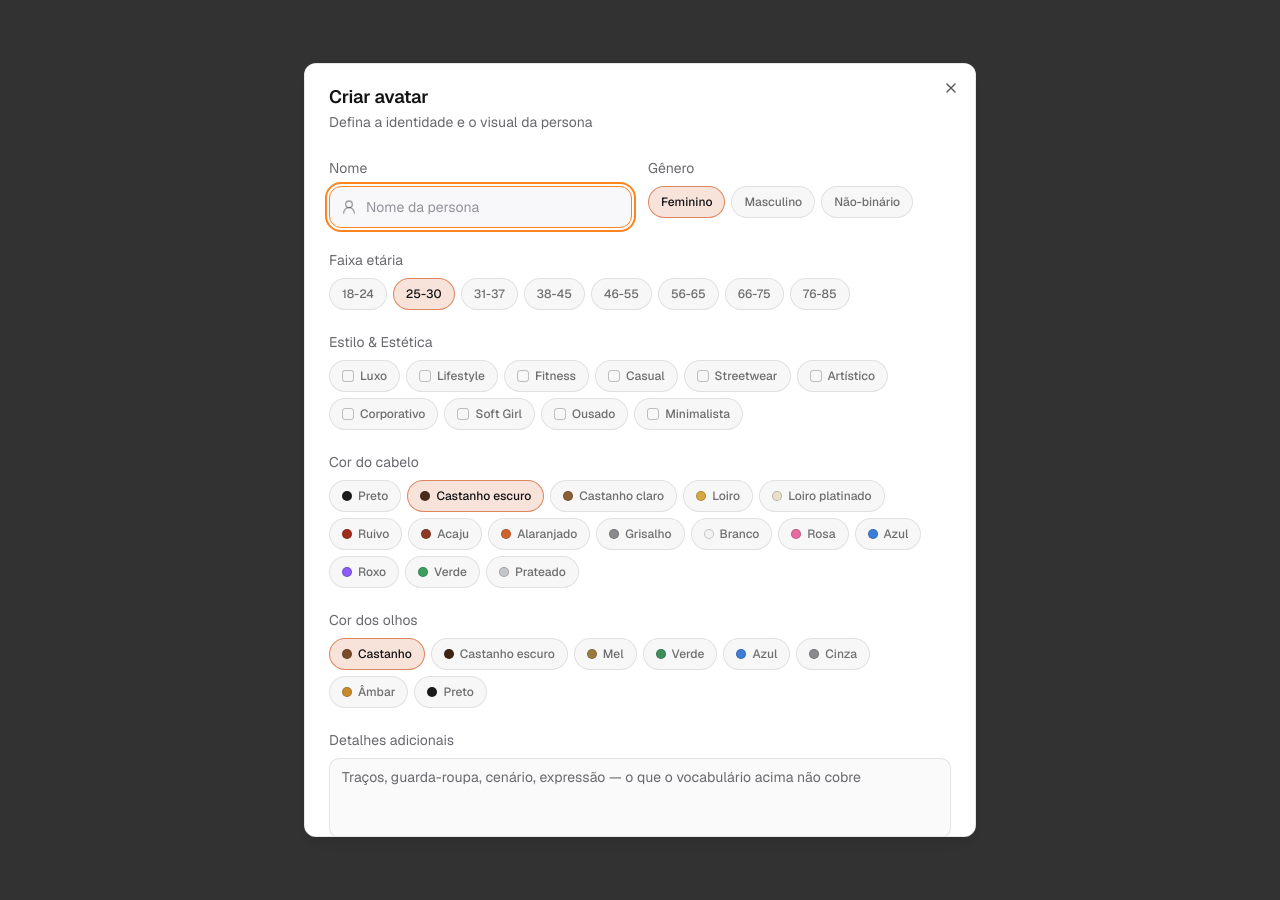
Test case: AvatarCustomizerDialog › o @handle é derivado do nome, nunca digitado
Type "Ana Editorial" into the field with placeholder "Nome da persona".
click(480, 207); type("Ana Editorial")  # box [329,186,632,228]
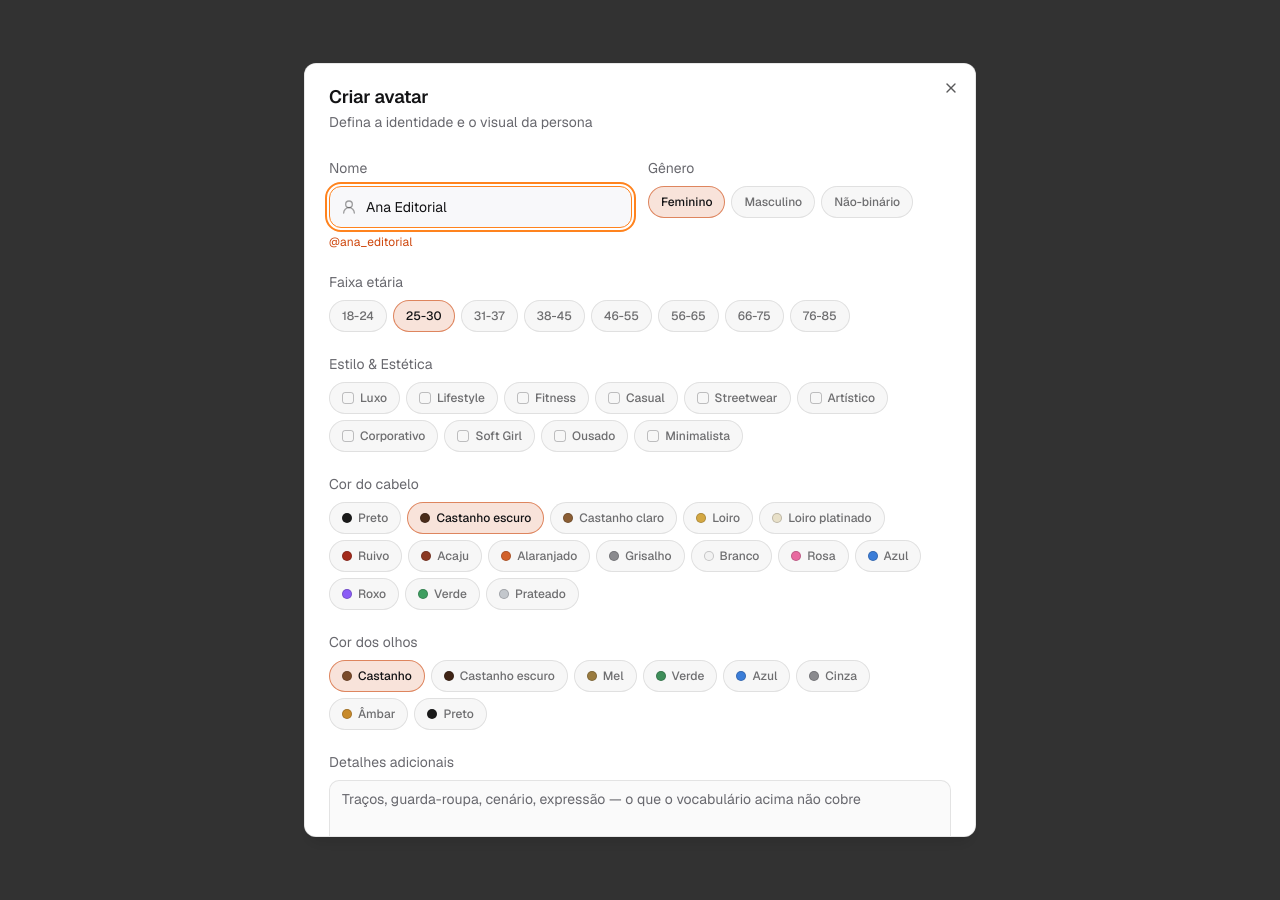
Check: the text "@ana_editorial" is shown, box [329,234,412,250]
